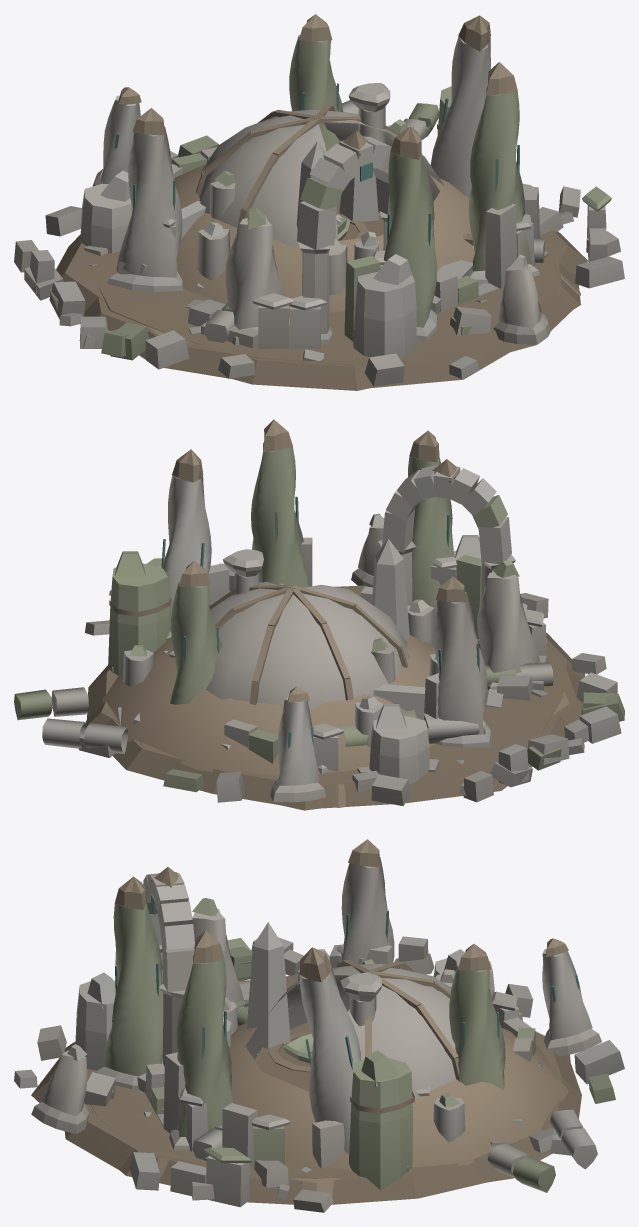
File: ruins.glb
3 renders of one model, top to bottom at view 1: azimuth 30°, elevation 25°; view 2: azimuth 150°, elevation 25°; view 3: azimuth 270°, elevation 25°, orthographic. The views are drawn at different scales.
Parts seen in each view (by area): view 1: ruin_c, ruin_b, ruin_a, ruin_c_rim, ruin_b_rim, ruin_a_rim, ruin_far; view 2: ruin_b, ruin_c, ruin_a, ruin_c_rim, ruin_a_rim, ruin_b_rim, ruin_far; view 3: ruin_c, ruin_b, ruin_a, ruin_c_rim, ruin_a_rim, ruin_b_rim, ruin_far.
Part boxes in pixels (left/top/right/bottom): ruin_c: left=97, top=14, right=580, bottom=390; ruin_b: left=56, top=104, right=587, bottom=388; ruin_a: left=80, top=83, right=572, bottom=359; ruin_c_rim: left=59, top=87, right=580, bottom=386; ruin_b_rim: left=45, top=103, right=624, bottom=378; ruin_a_rim: left=14, top=100, right=620, bottom=332; ruin_far: left=147, top=141, right=580, bottom=342; ruin_b: left=87, top=459, right=582, bottom=808; ruin_c: left=85, top=419, right=585, bottom=810; ruin_a: left=108, top=535, right=568, bottom=784; ruin_c_rim: left=85, top=513, right=606, bottom=802; ruin_a_rim: left=42, top=558, right=589, bottom=802; ruin_b_rim: left=14, top=563, right=624, bottom=806; ruin_far: left=163, top=539, right=569, bottom=807; ruin_c: left=64, top=839, right=570, bottom=1185; ruin_b: left=31, top=867, right=581, bottom=1204; ruin_a: left=64, top=945, right=550, bottom=1189; ruin_c_rim: left=31, top=938, right=615, bottom=1212; ruin_a_rim: left=170, top=936, right=624, bottom=1207; ruin_b_rim: left=14, top=937, right=557, bottom=1199; ruin_far: left=156, top=922, right=415, bottom=1204.
Bounding box in the file's own units: 19 × 7.68 × 18.9.
